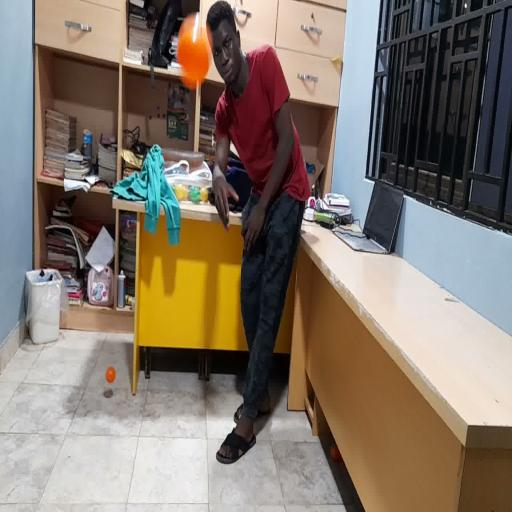plastic-ball: (176, 13, 214, 90)
